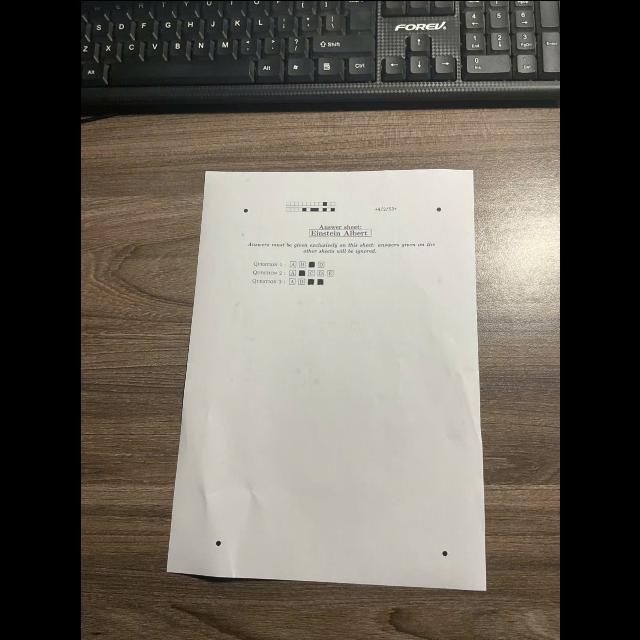Markers: (441, 550, 447, 556), (215, 540, 221, 546), (242, 208, 248, 212), (436, 206, 440, 210)
